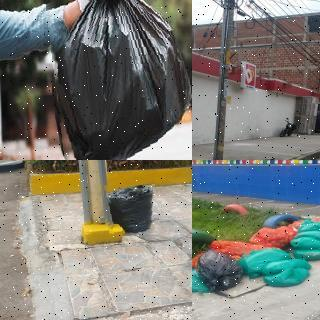Garbage: (44, 0, 192, 160), (104, 181, 160, 236), (195, 247, 249, 293), (238, 248, 293, 278), (261, 257, 312, 287), (290, 218, 320, 259), (250, 226, 297, 248), (192, 268, 213, 292), (256, 157, 281, 160)
